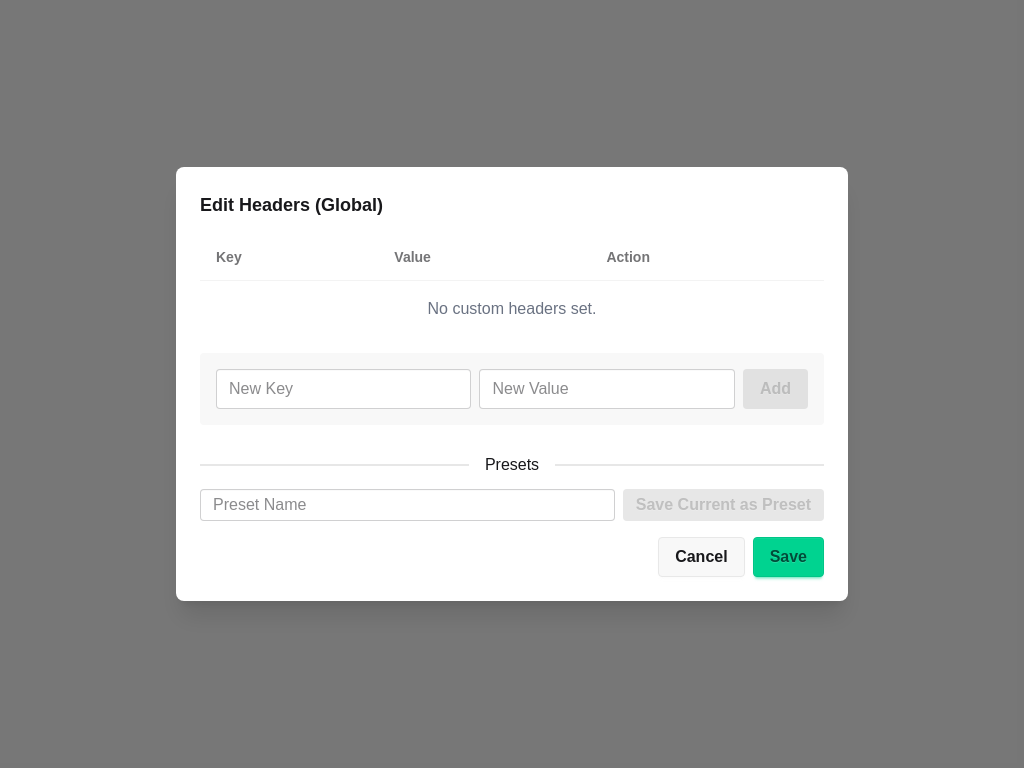
Test case: HeadersEditor Component › should add a header
Type "Content-Type" into the field with placeholder "New Key".
click(344, 389); type("Content-Type")  # box [216, 369, 471, 409]
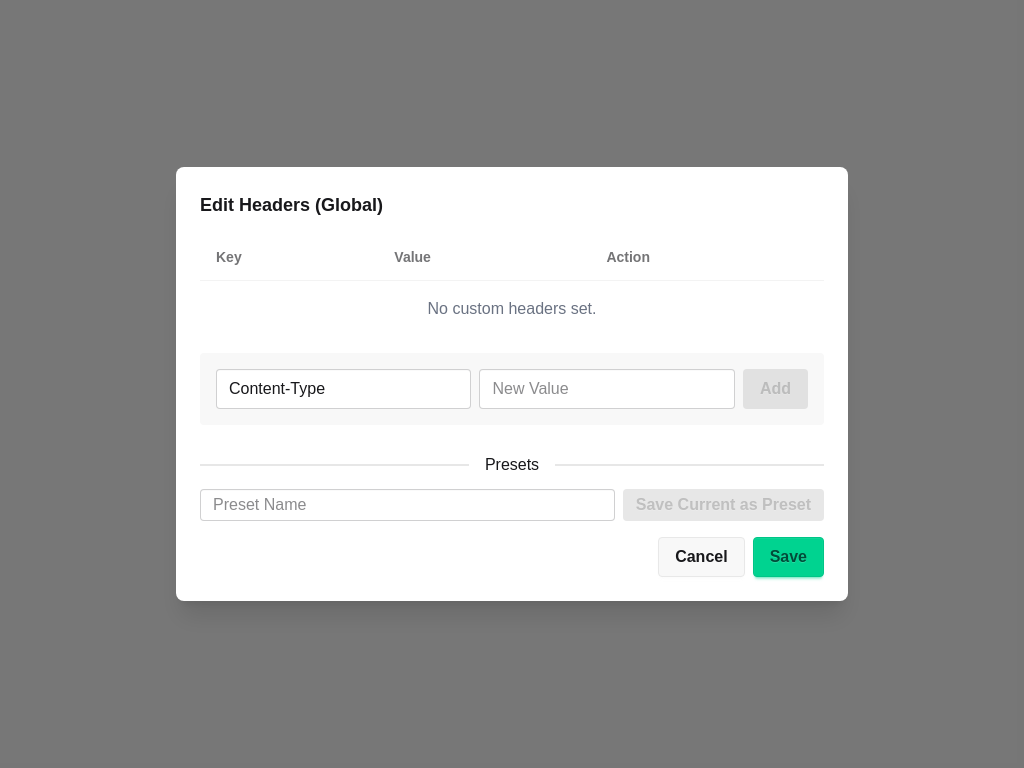
Type "application/json" into the field with placeholder "New Value".
click(607, 389); type("application/json")  # box [479, 369, 735, 409]
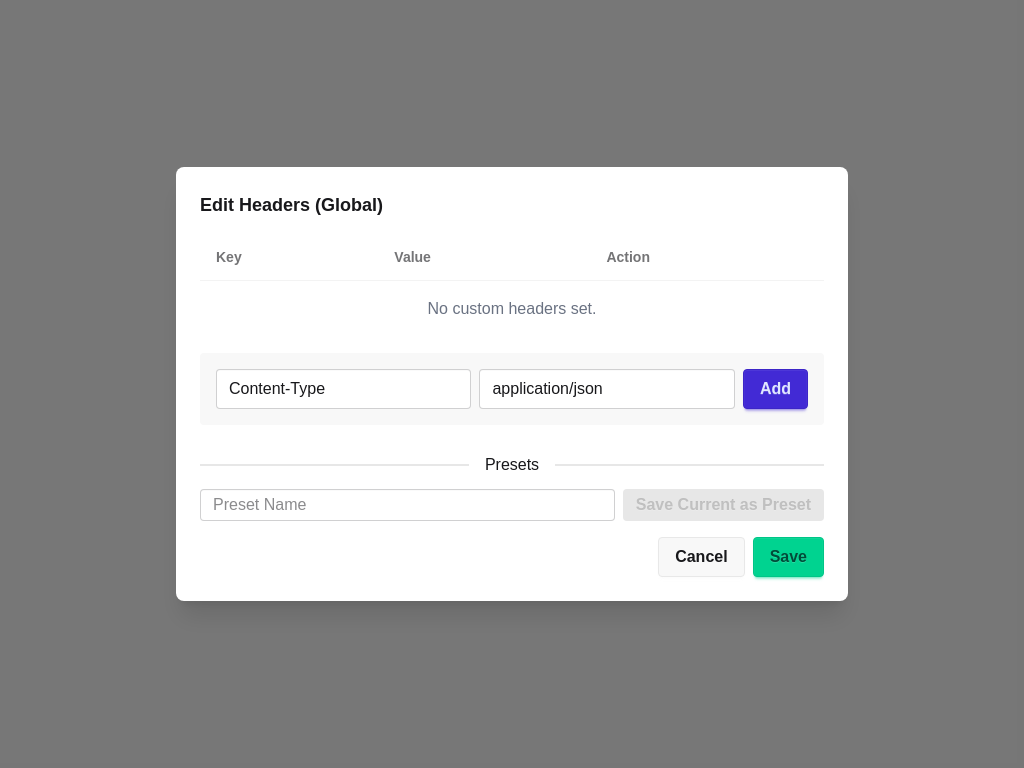
Click the button "Add".
click(775, 389)  # box [743, 369, 808, 409]
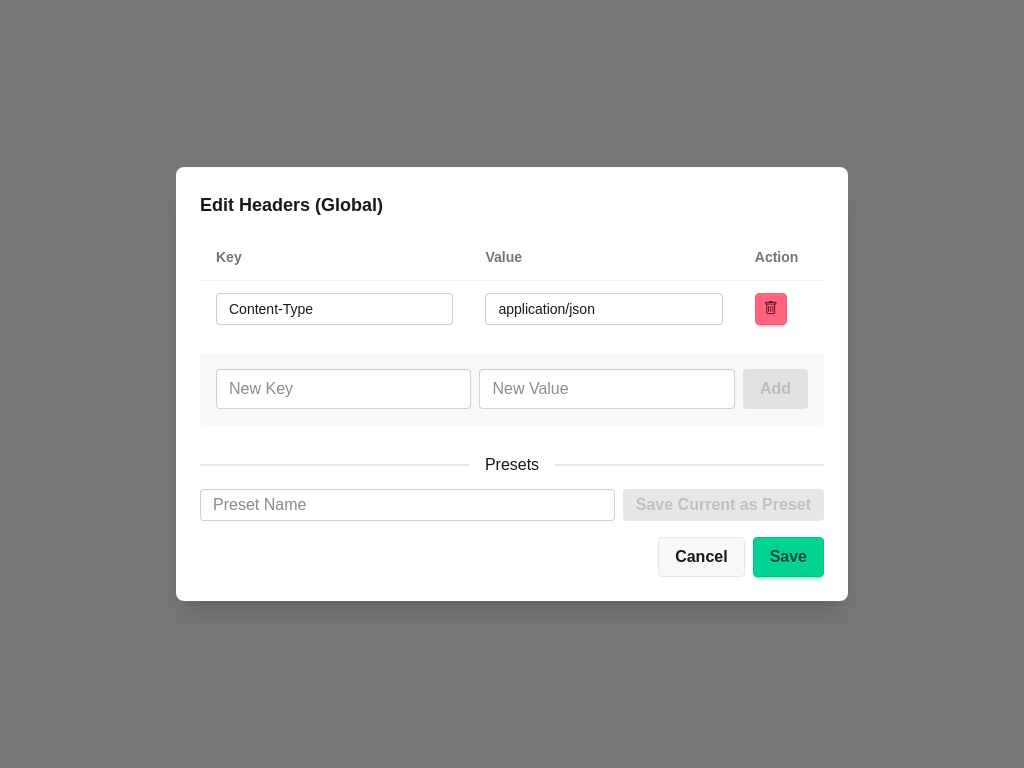
Expected: the 1st field is shown, [216, 293, 453, 325]
Expected: the 2nd field is shown, [485, 293, 723, 325]
